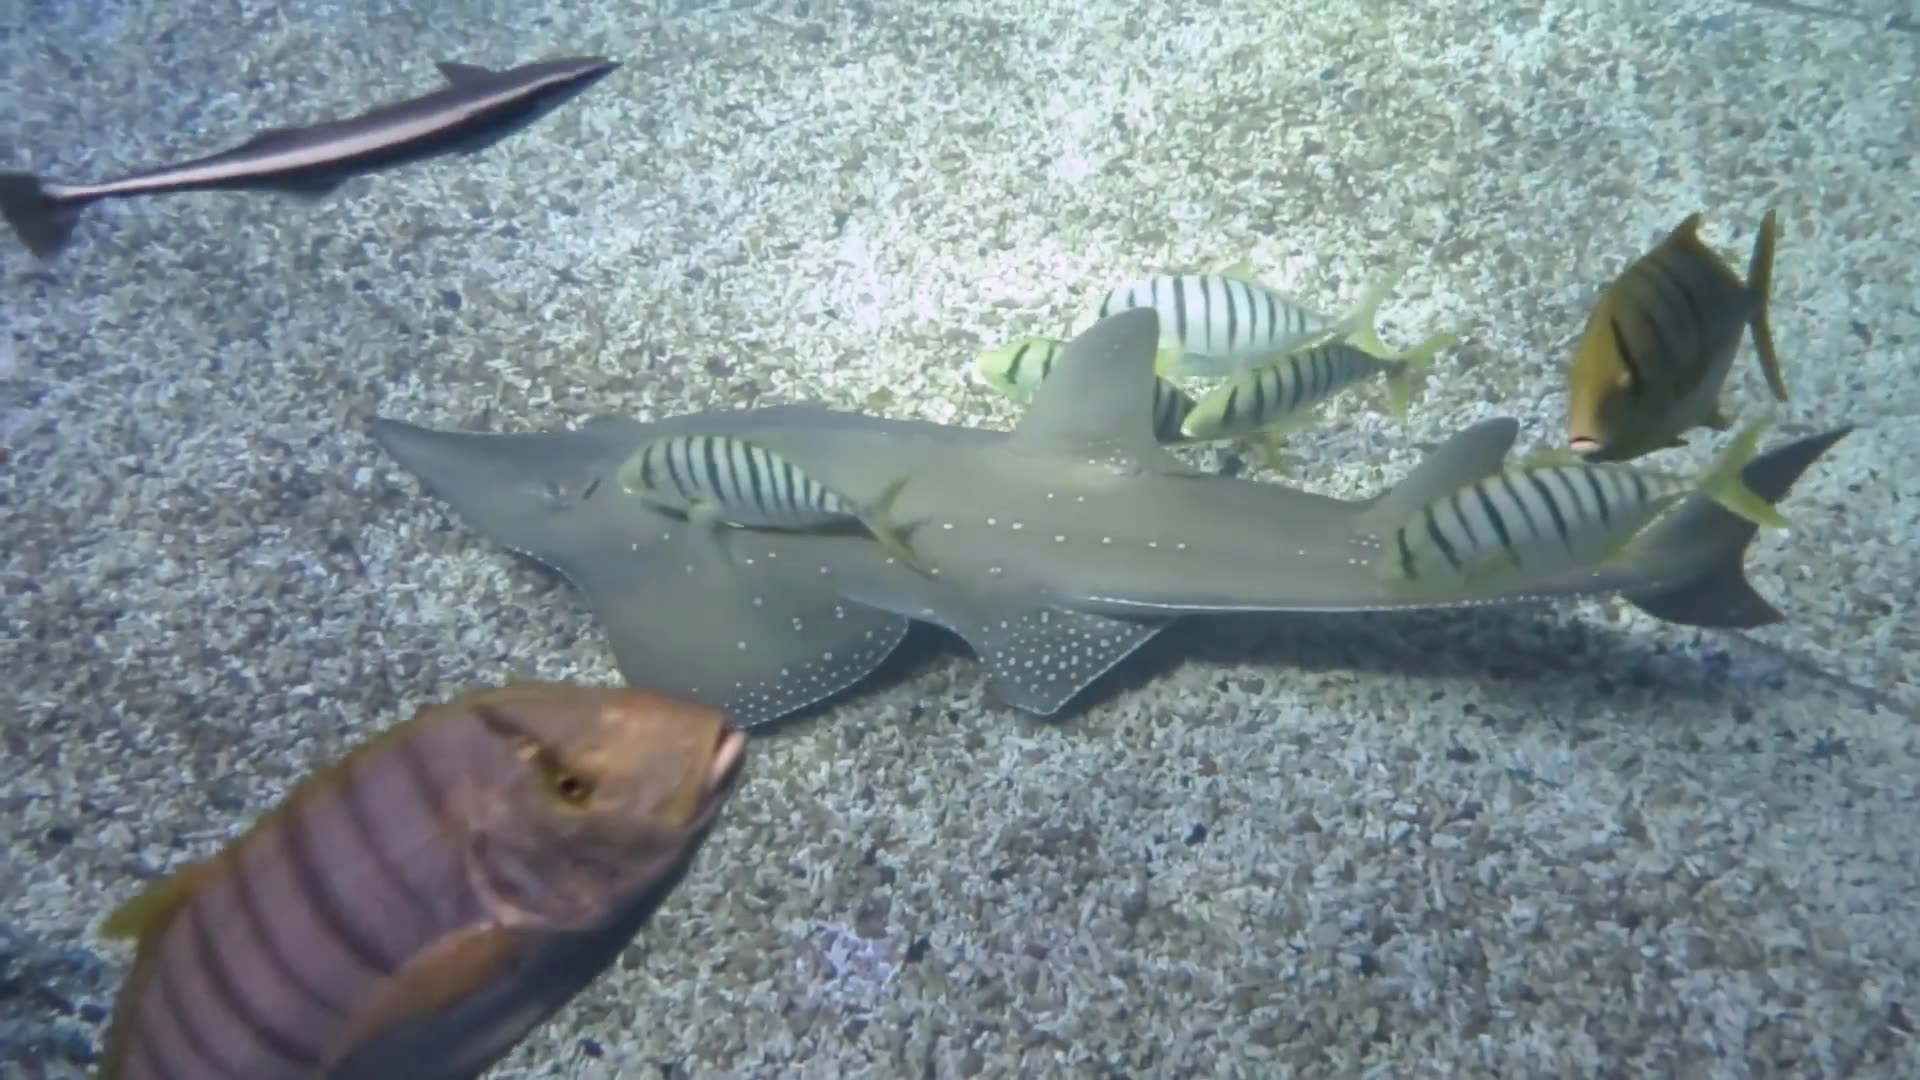Rhychobatus djiddensis: (365, 298, 1791, 713)
